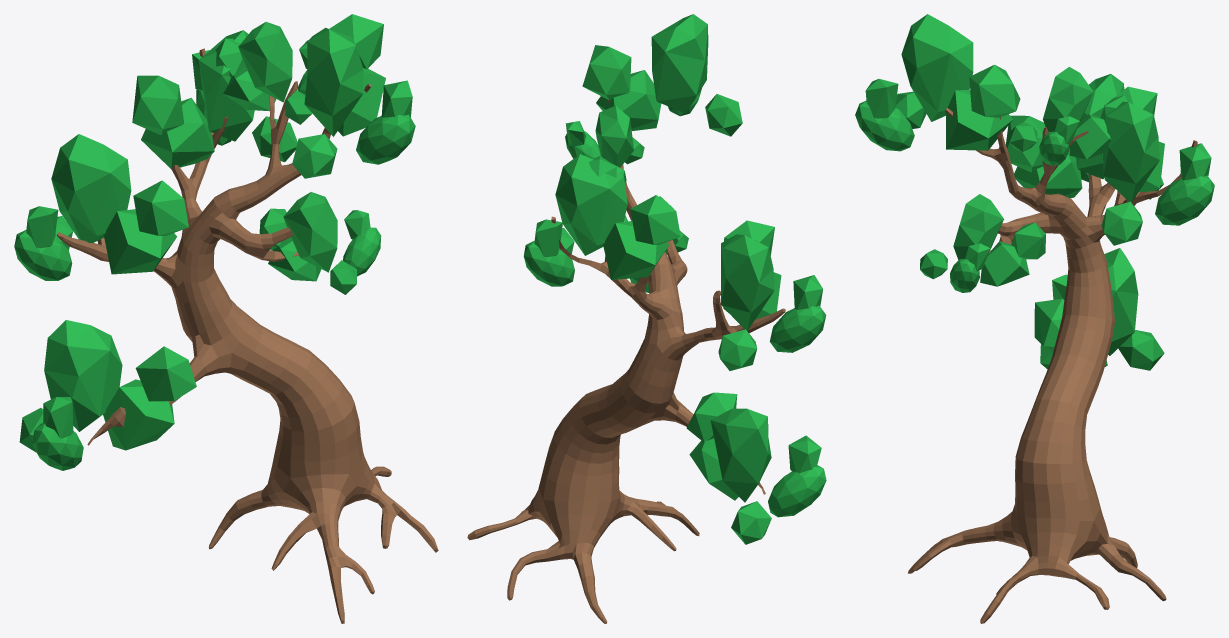
Rendered from Japan_tree_v04.fbx.
3 renders of one model, left to right at view 1: azimuth 30°, elevation 25°; view 2: azimuth 150°, elevation 25°; view 3: azimuth 270°, elevation 25°, orthographic. The views are drawn at different scales.
Parts seen in each view (by area): view 1: Japan_tree_v04; view 2: Japan_tree_v04; view 3: Japan_tree_v04.
Boxes of the visible parts, left/top/right/bottom form: Japan_tree_v04: left=14, top=14, right=438, bottom=623; Japan_tree_v04: left=467, top=14, right=826, bottom=623; Japan_tree_v04: left=855, top=14, right=1214, bottom=623.
Size of the model in its own units: 71.9 by 106 by 61.2.
Materials: 1 (1 with a texture image).
